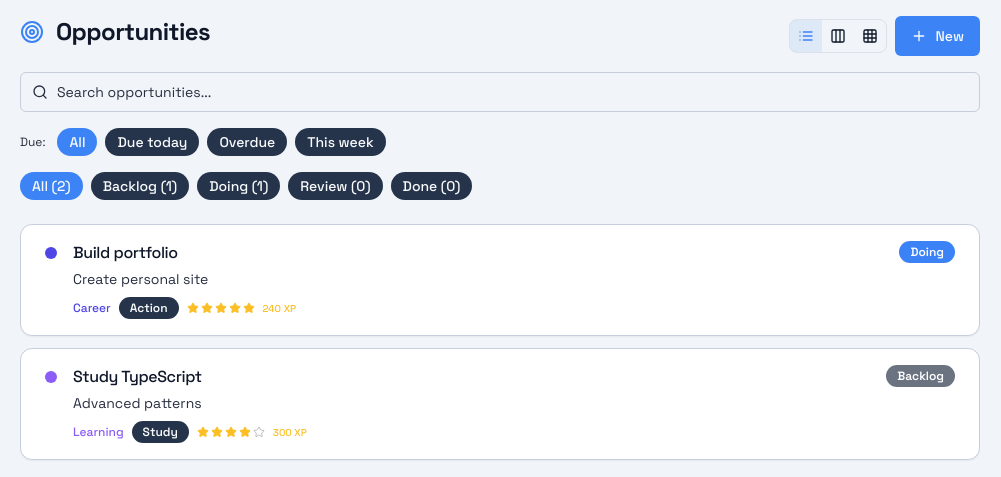
Test: Opportunities page › filters opportunities by search query
Type "TypeScript" into the field with placeholder "Search opportunities..." at (500, 92), box [20,72,980,112]
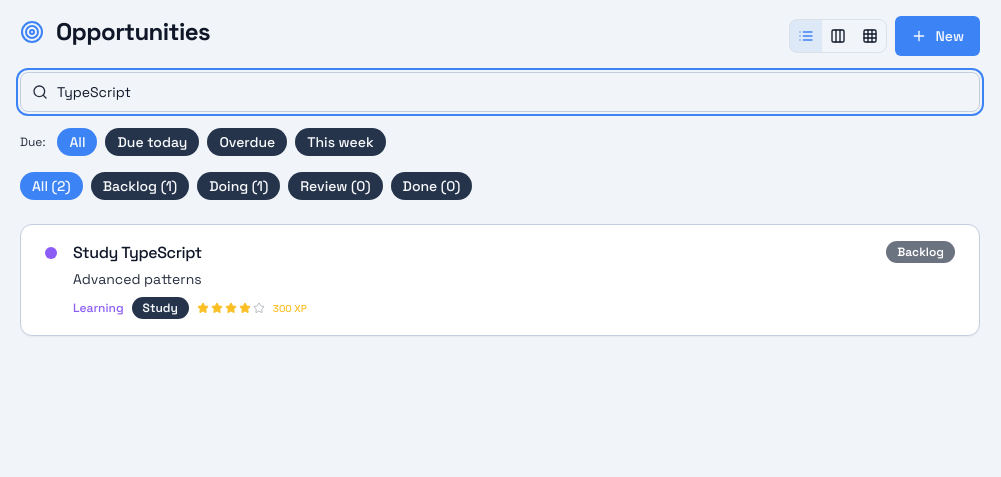
Check: the heading "Study TypeScript" is shown, box [73,242,202,263]
Check: the heading "Build portfolio" is gone
